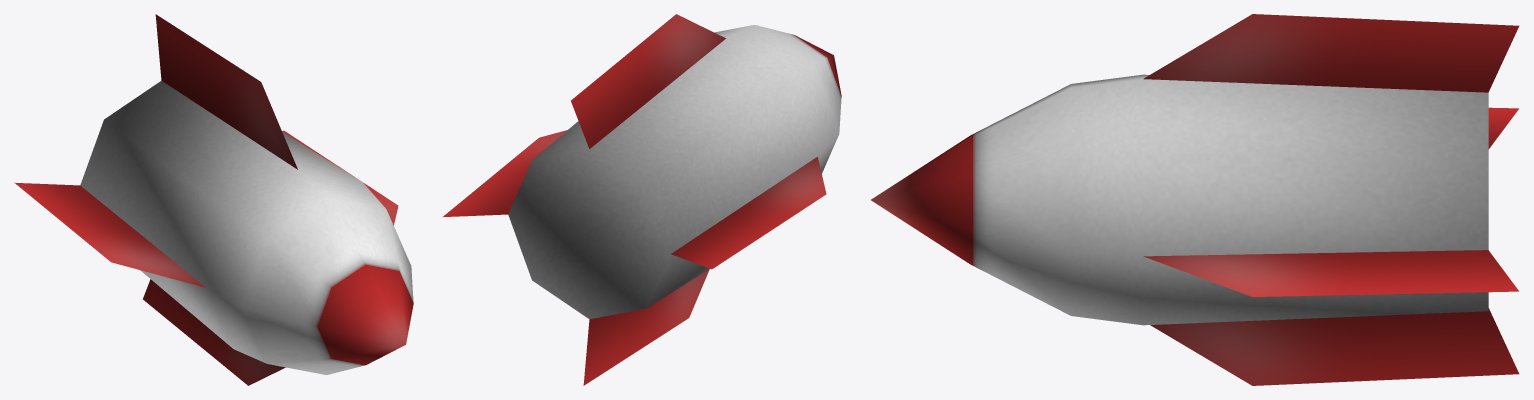
The model's file is rocket.fbx.
3 views of the same model, side by side, from view 1: azimuth 30°, elevation 25°; view 2: azimuth 150°, elevation 25°; view 3: azimuth 270°, elevation 25° (orthographic). The views are drawn at different scales.
Parts seen in each view (by area): view 1: rocketObject; view 2: rocketObject; view 3: rocketObject.
Part boxes in pixels (x1,y1,x2,y2): rocketObject: (14,14,413,385); rocketObject: (442,14,841,385); rocketObject: (871,14,1519,385).
Bounding box in the file's own units: 0.206 × 0.206 × 0.319.
Materials: 1 (1 with a texture image).
